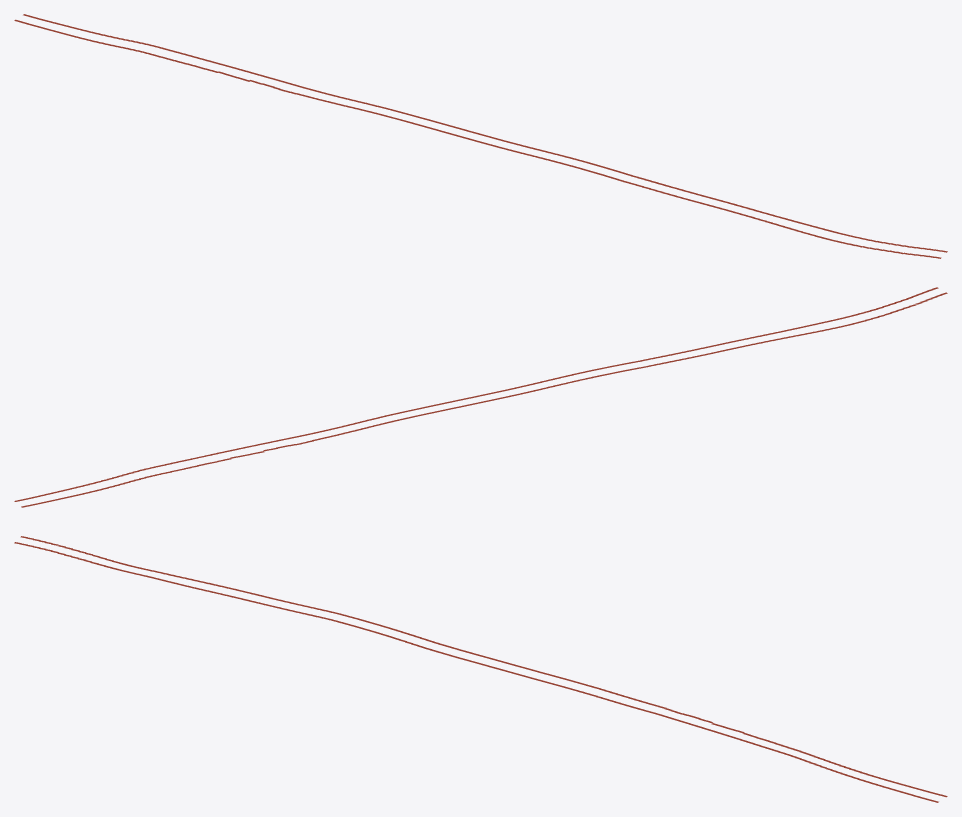
Rendered from cycle1.glb.
3 views of the same model, one above another, from view 1: azimuth 90°, elevation 25°; view 2: azimuth 150°, elevation 25°; view 3: azimuth 270°, elevation 25° (orthographic). The views are drawn at different scales.
Parts seen in each view (by area): view 1: cycle1_lod0; view 2: cycle1_lod0; view 3: cycle1_lod0.
Part boxes in pixels (x1,y1,x2,y2): cycle1_lod0: (14,14,947,258); cycle1_lod0: (14,287,947,507); cycle1_lod0: (14,536,947,802).
Size of what is drawn, in the model's own units: 234 by 4.88 by 360.
